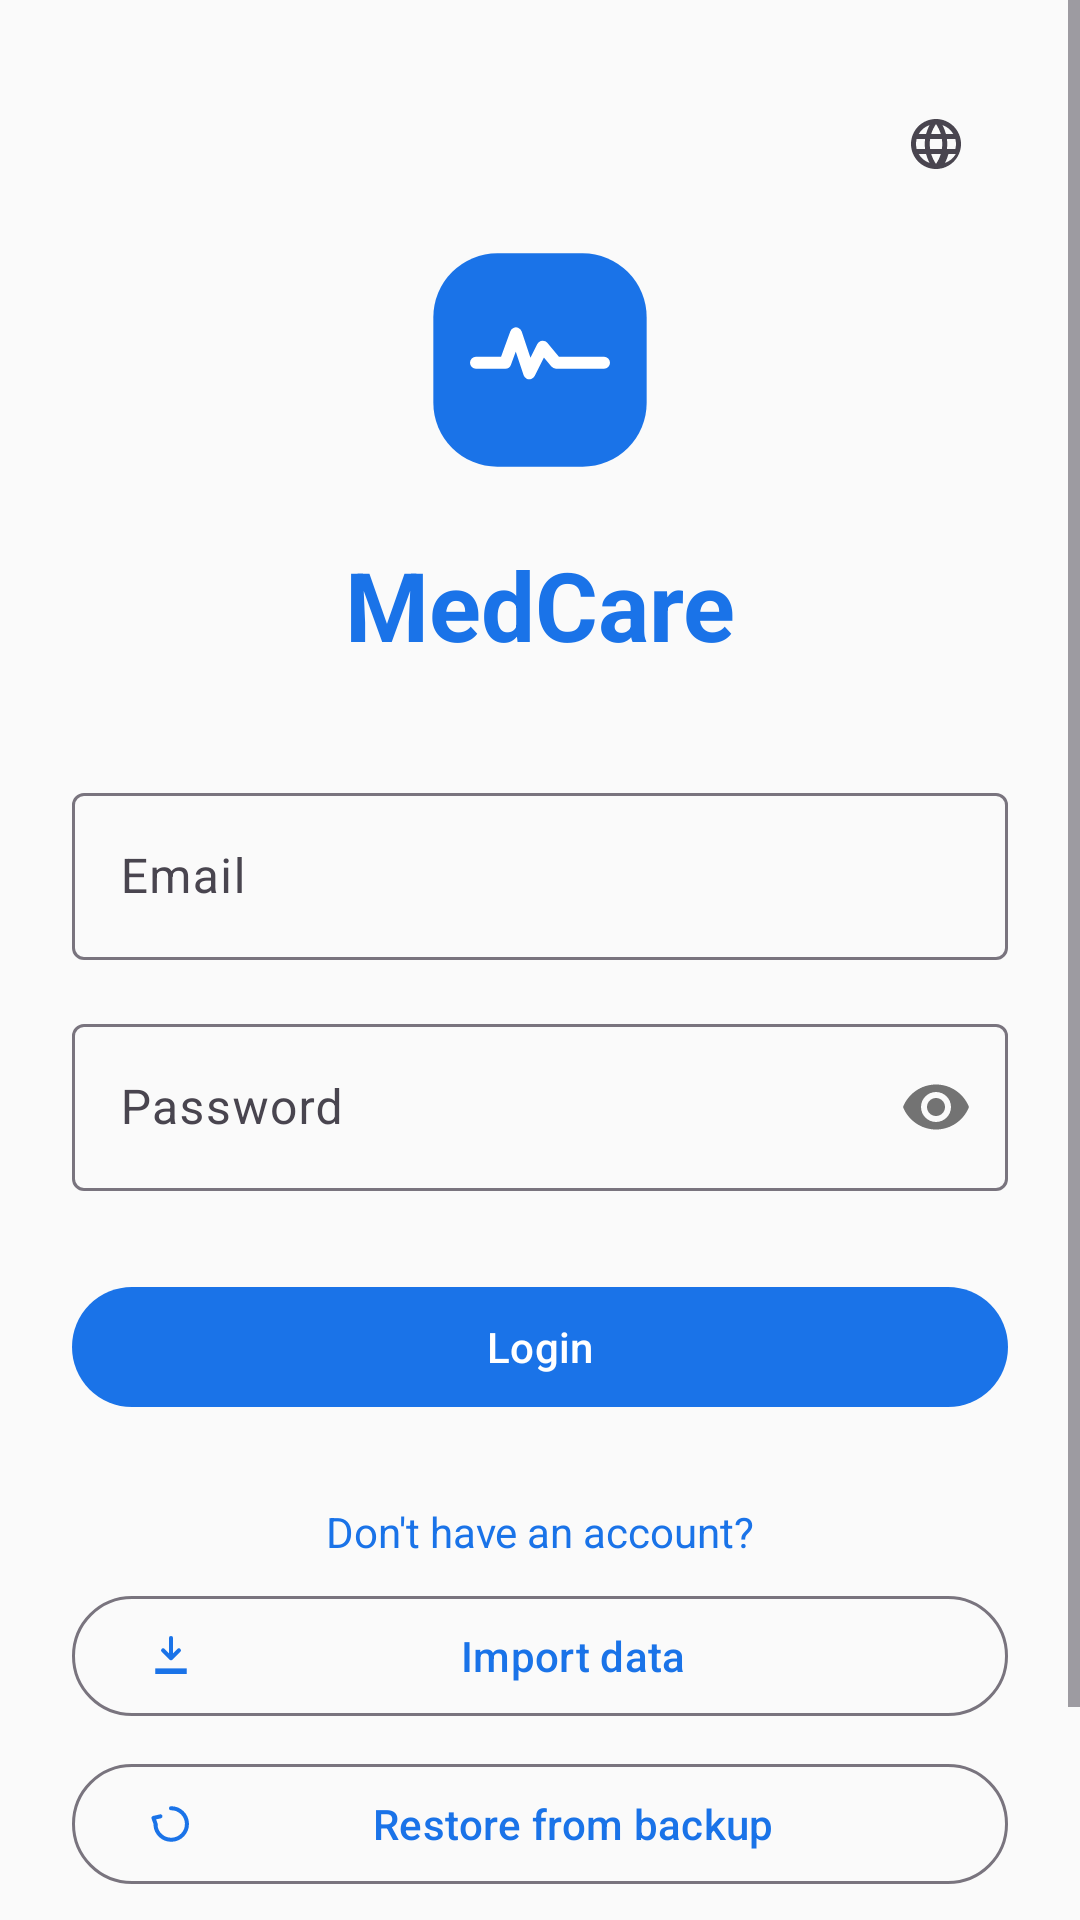

Point at icon controls on the screen. Image size 1080×1920, points as [x,y].
Language: [936,144]
